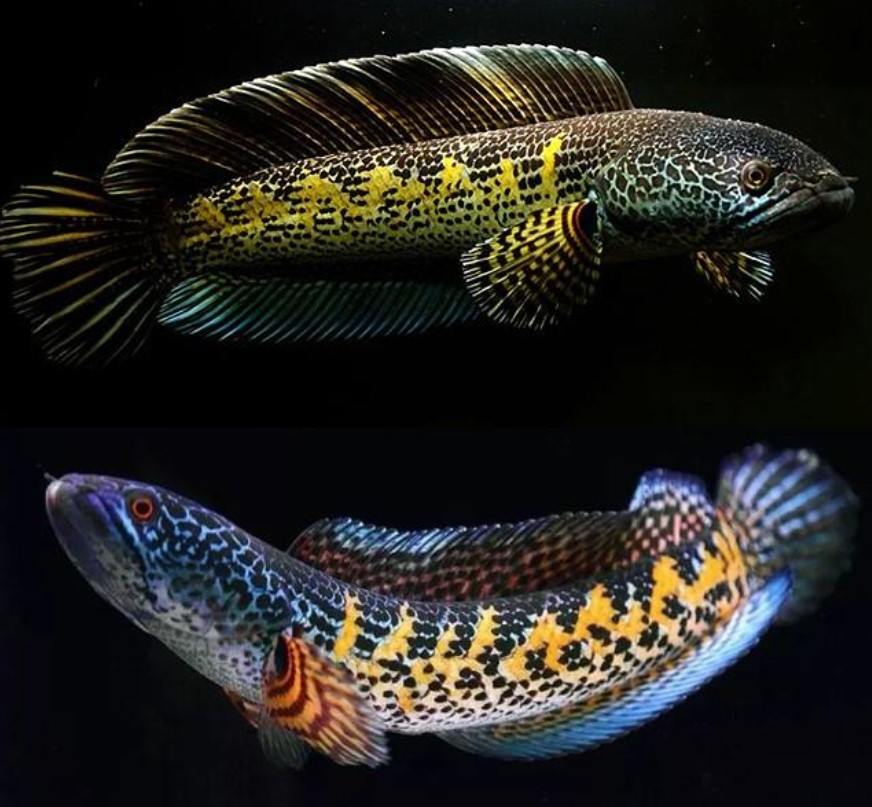Fish: (13, 430, 855, 801), (2, 39, 860, 368)
